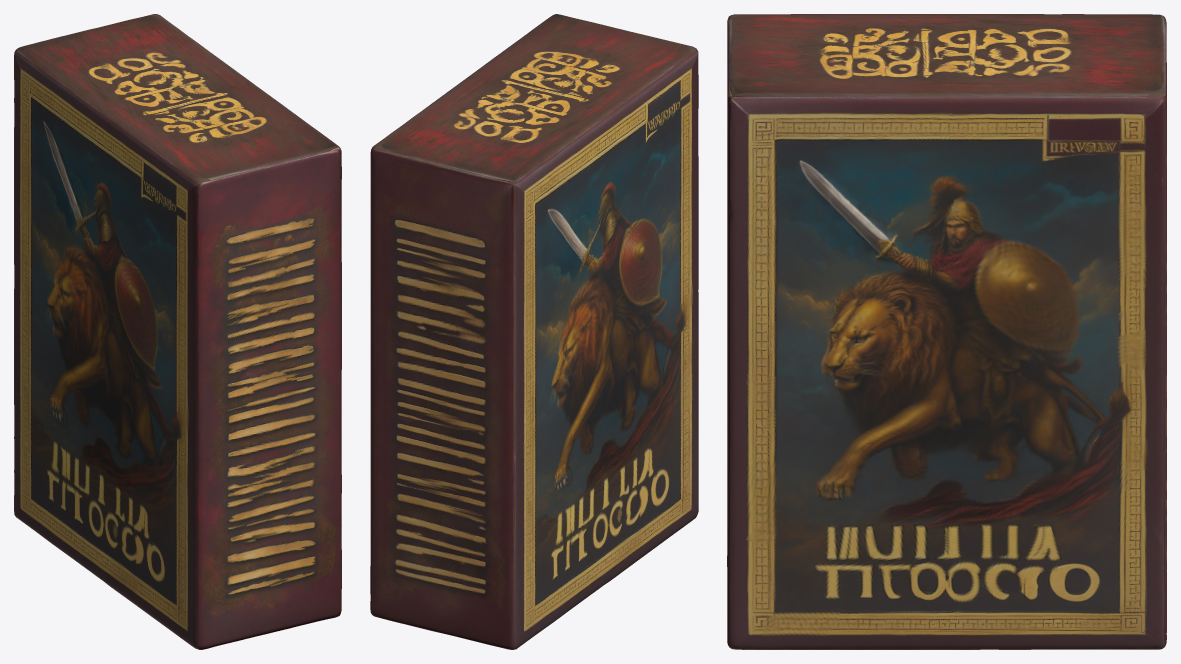
File: mazen44 .glb
3 views of the same model, side by side, from view 1: azimuth 30°, elevation 25°; view 2: azimuth 150°, elevation 25°; view 3: azimuth 270°, elevation 25° (orthographic). The views are drawn at different scales.
Bounding box in the file's own units: 0.6654 × 2 × 1.43.
Materials: 1 (1 with a texture image).
